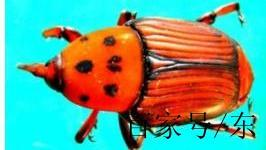Curculionidae: (17, 2, 256, 150)
